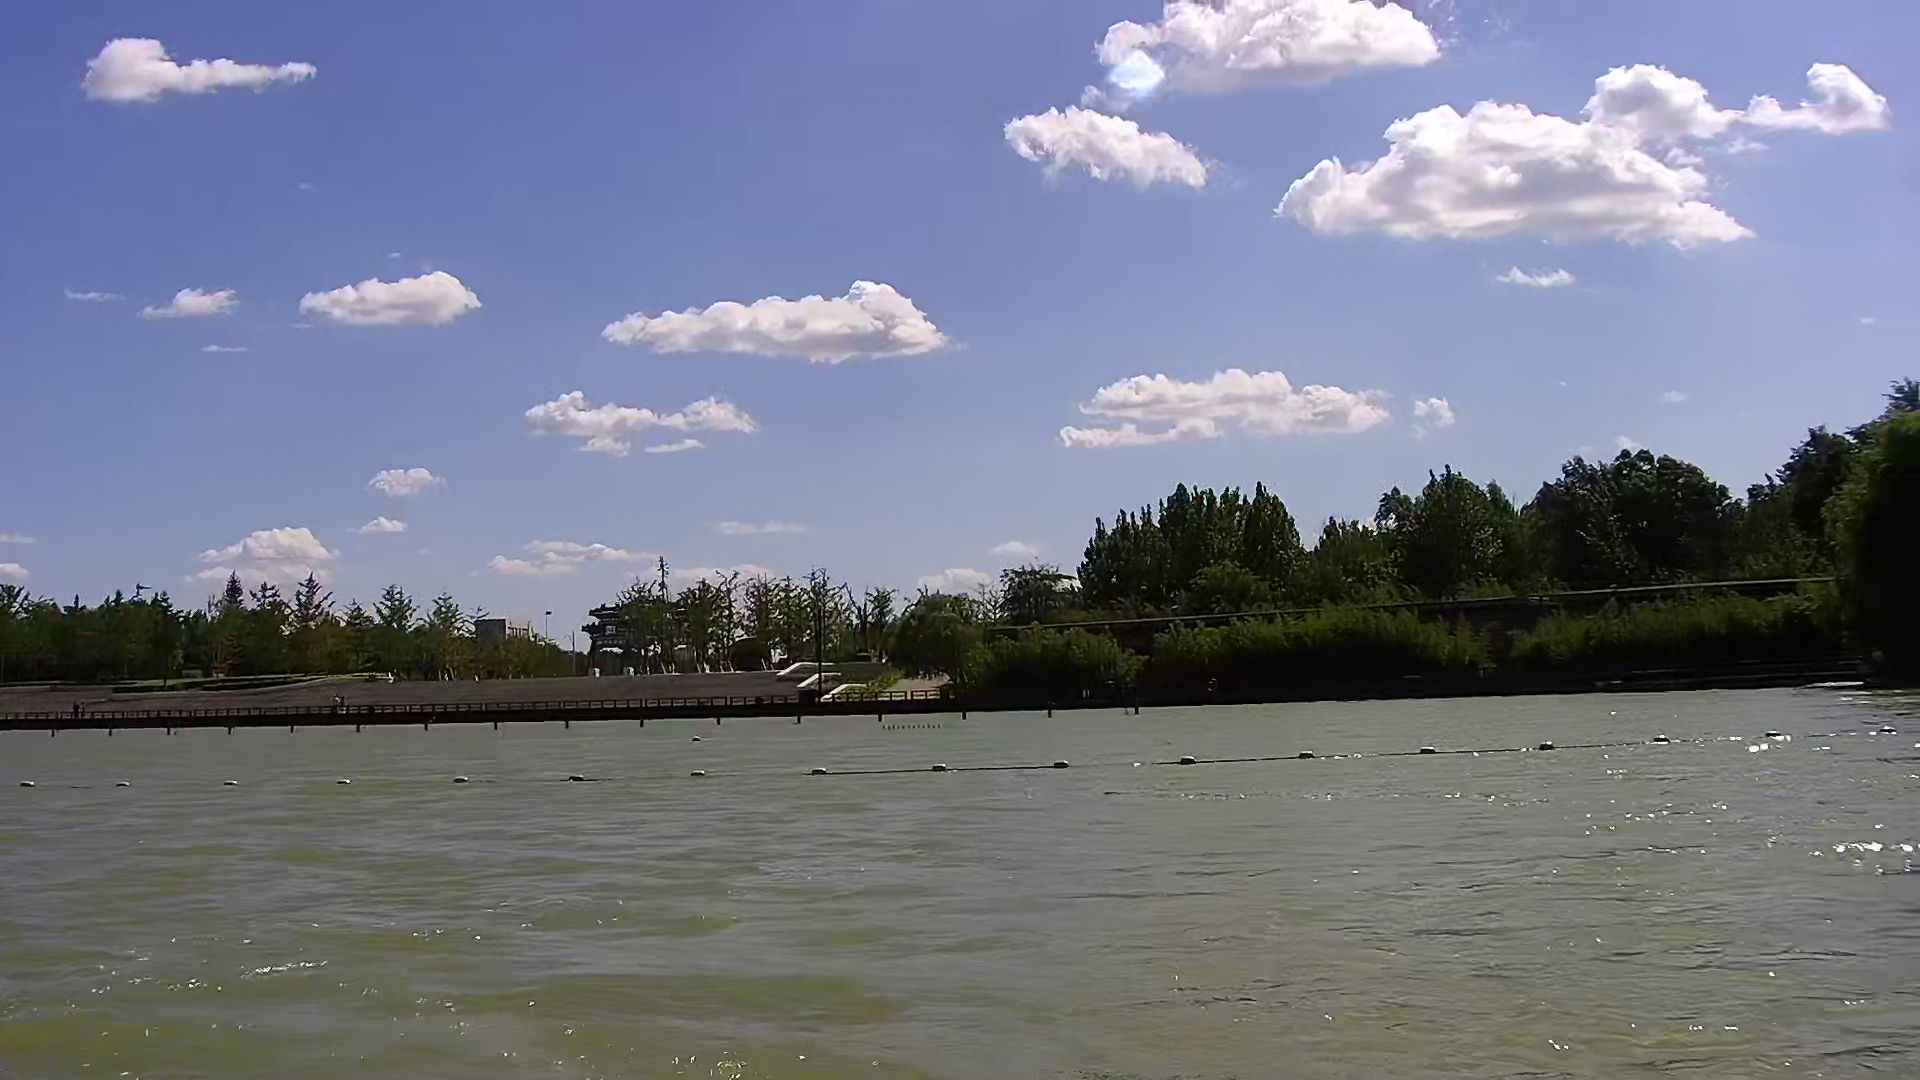ball: (1047, 735, 1093, 789), (1291, 735, 1349, 774), (1528, 720, 1571, 771), (1407, 731, 1453, 771), (916, 750, 957, 790), (1174, 744, 1215, 782)
